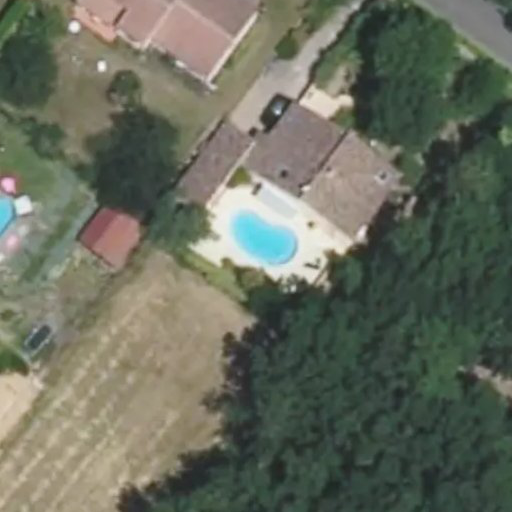pool: (233, 208, 301, 264)
